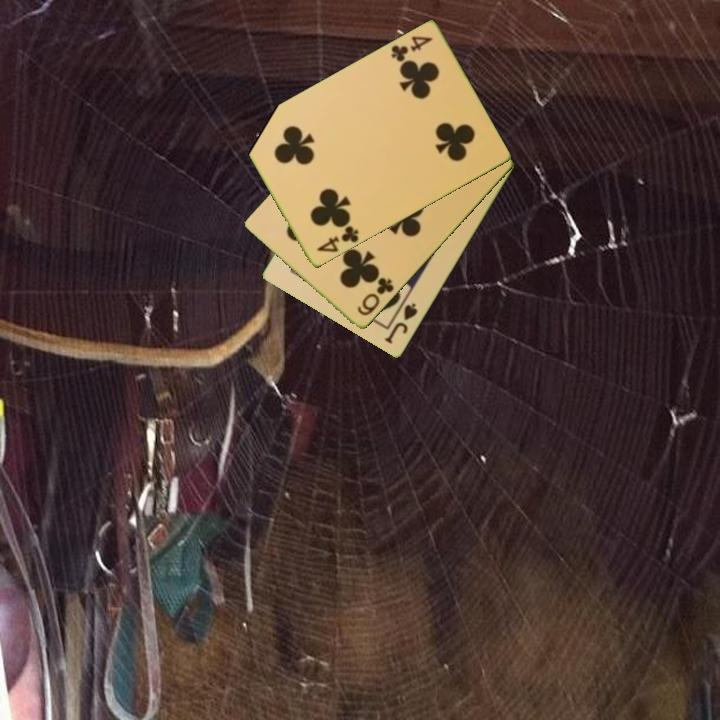4c: (313, 220, 362, 256), (387, 33, 435, 65)
6c: (354, 274, 397, 319)
Js: (381, 299, 421, 347)
